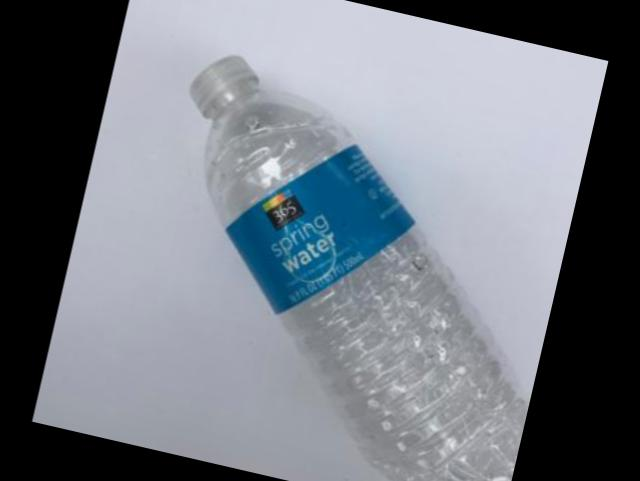plastic: (193, 53, 528, 481)
